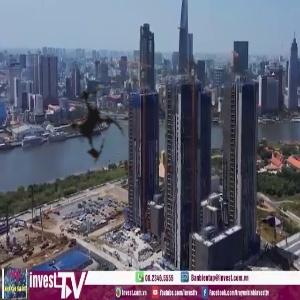drone: (24, 55, 163, 194)
